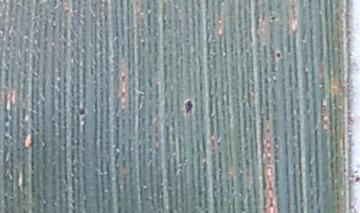tarspot: (182, 97, 195, 114), (78, 107, 86, 116), (275, 51, 282, 58), (355, 174, 360, 183), (270, 15, 277, 21), (307, 1, 313, 3)
